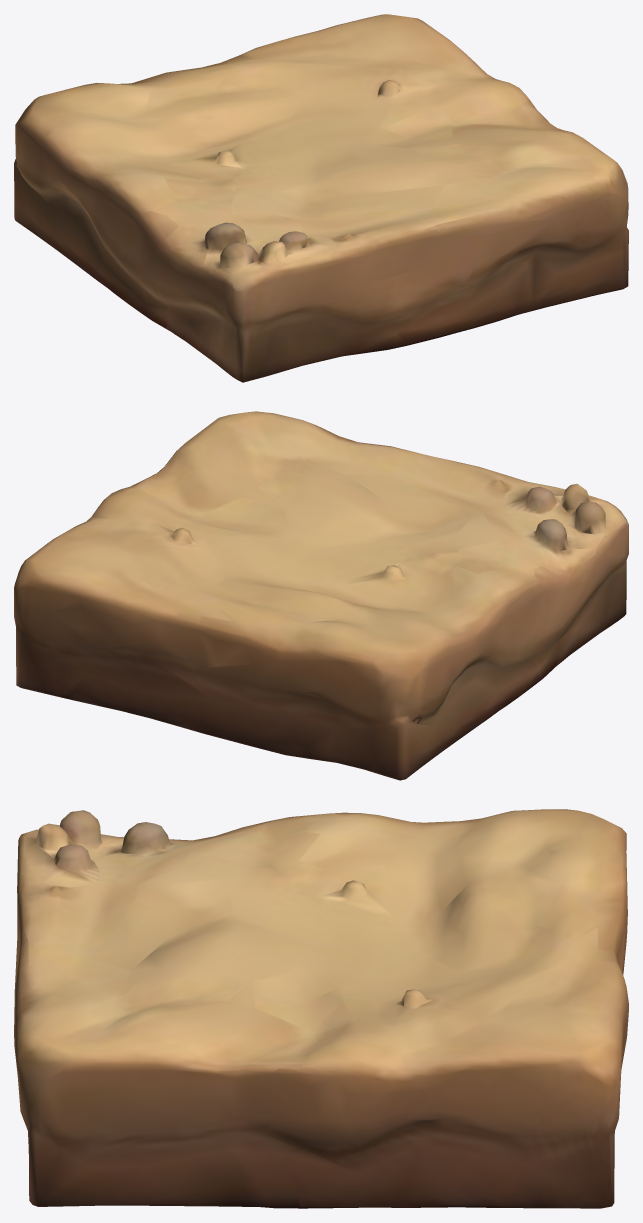
File: t03_areia.glb
3 views of the same model, one above another, from view 1: azimuth 30°, elevation 25°; view 2: azimuth 150°, elevation 25°; view 3: azimuth 270°, elevation 25° (orthographic). The views are drawn at different scales.
Parts seen in each view (by area): view 1: t03_areia; view 2: t03_areia; view 3: t03_areia.
Boxes of the visible parts, box(x1,y1,x2,y2) form: t03_areia: box(14, 14, 628, 382); t03_areia: box(14, 411, 628, 780); t03_areia: box(14, 809, 628, 1208).
Size of the model in its own units: 1.01 by 0.2966 by 0.9957.
1 material, 1 textured.
